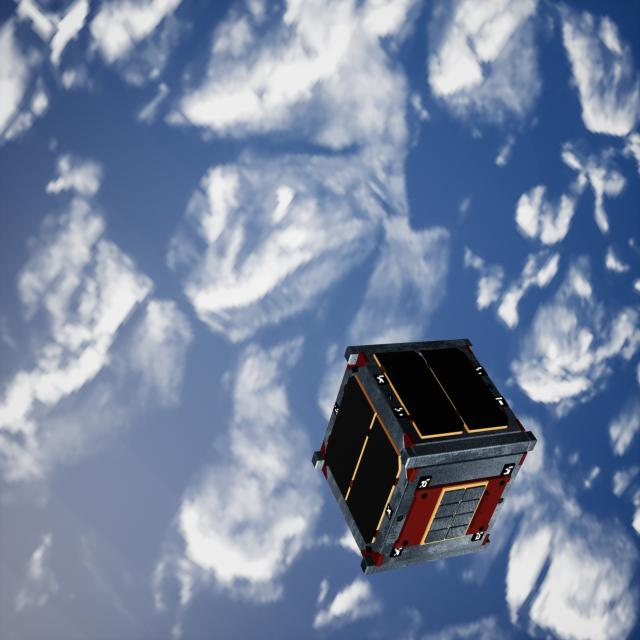medium_debris: (303, 331, 540, 583)
